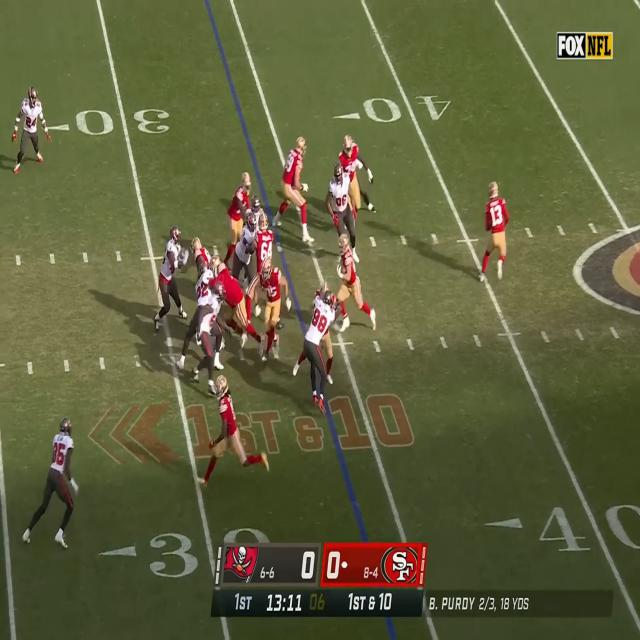football: (338, 264, 347, 277)
players: (197, 375, 270, 488), (23, 417, 75, 551), (272, 134, 316, 247), (208, 256, 262, 348), (333, 234, 379, 334), (305, 294, 340, 415), (153, 226, 190, 331), (191, 284, 226, 394), (327, 162, 361, 262), (477, 180, 509, 284), (260, 259, 292, 362), (337, 135, 378, 215), (13, 87, 50, 174), (223, 170, 253, 268), (246, 216, 270, 326), (234, 214, 256, 287), (192, 238, 214, 283), (250, 195, 264, 224)
